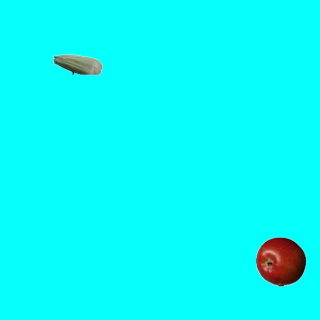Apple Braeburn: (255, 236, 305, 286)
Corn Husk: (52, 39, 102, 89)
